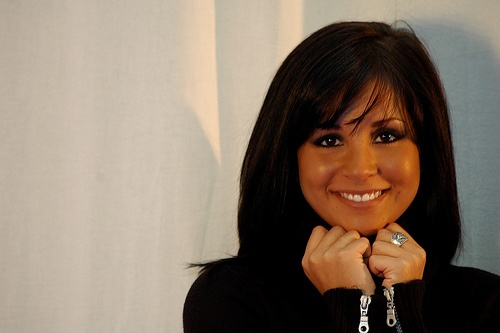head: (254, 21, 458, 237)
person: (172, 19, 500, 333)
